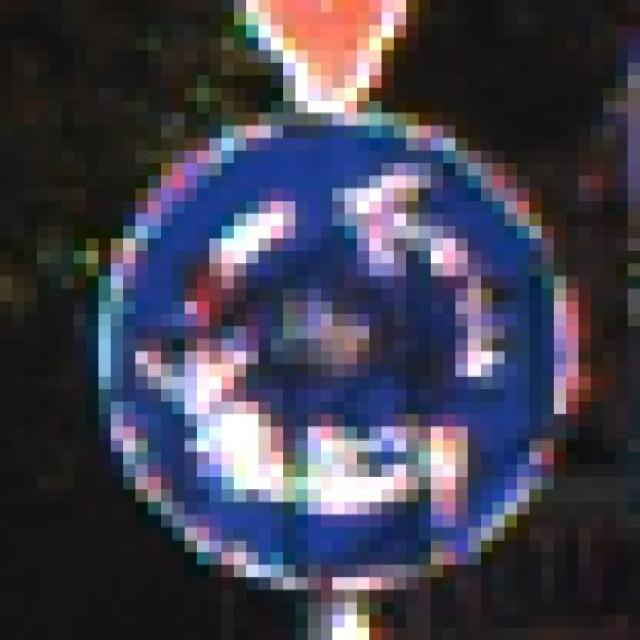Round-About: (49, 113, 616, 602)
